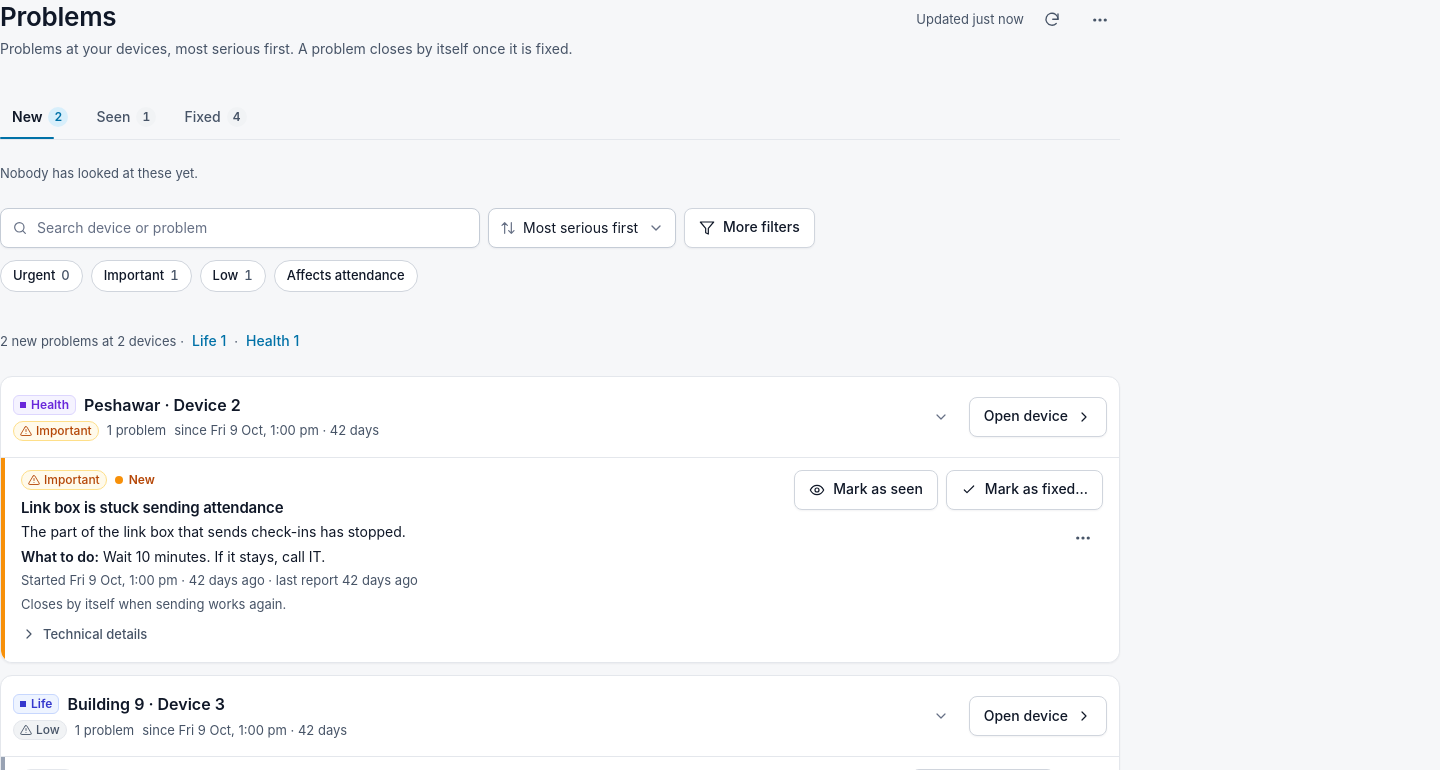
Test: Problems page › opens Clean up old problems from the ⋯ menu with Pick devices first
This screenshot has width=1440, height=770.
Expected: the heading "Link box is stuck sending attendance" is shown, [21,498,283,517]
Click the button named "More actions": (1100, 20) [1080,0,1120,40]
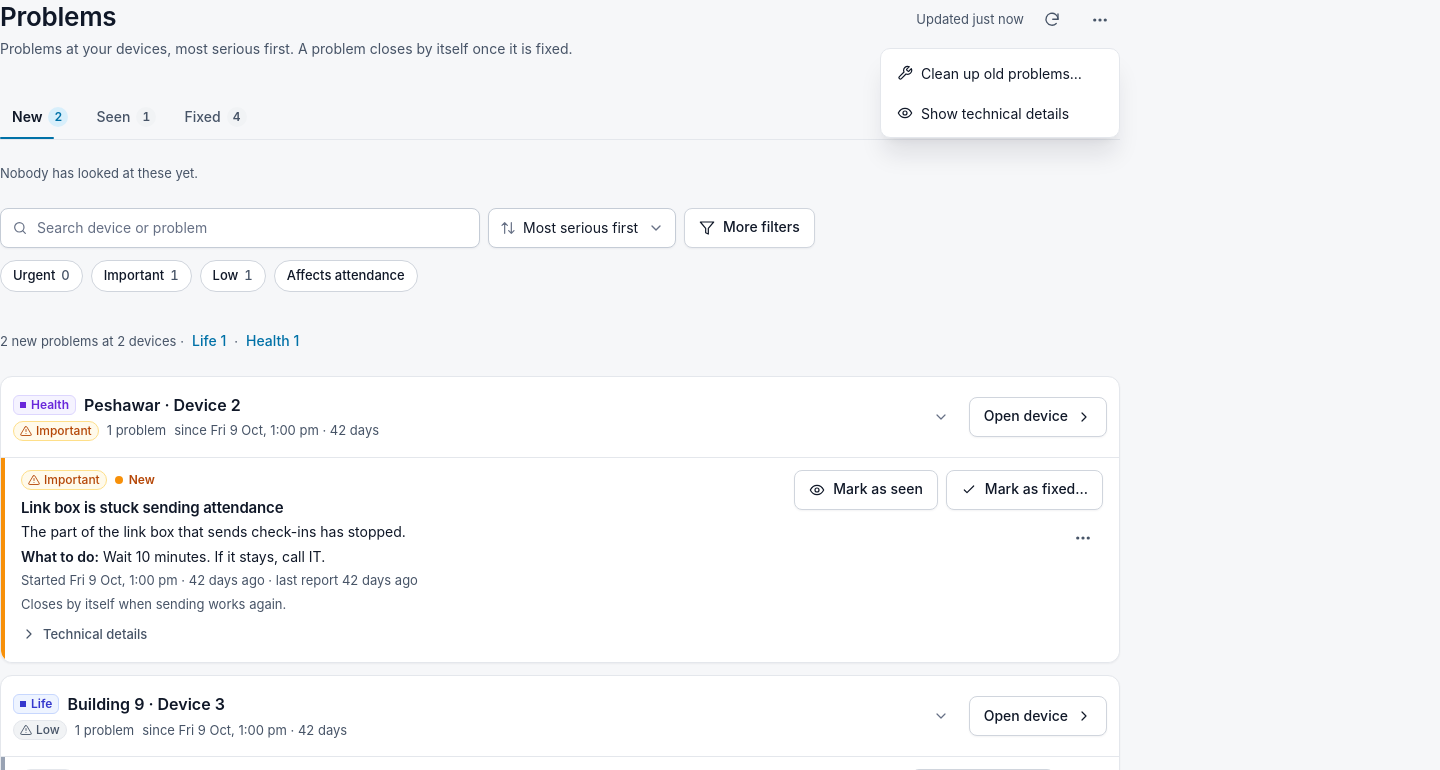
Click the menu item "Clean up old problems…": (1000, 73) [885,53,1115,93]
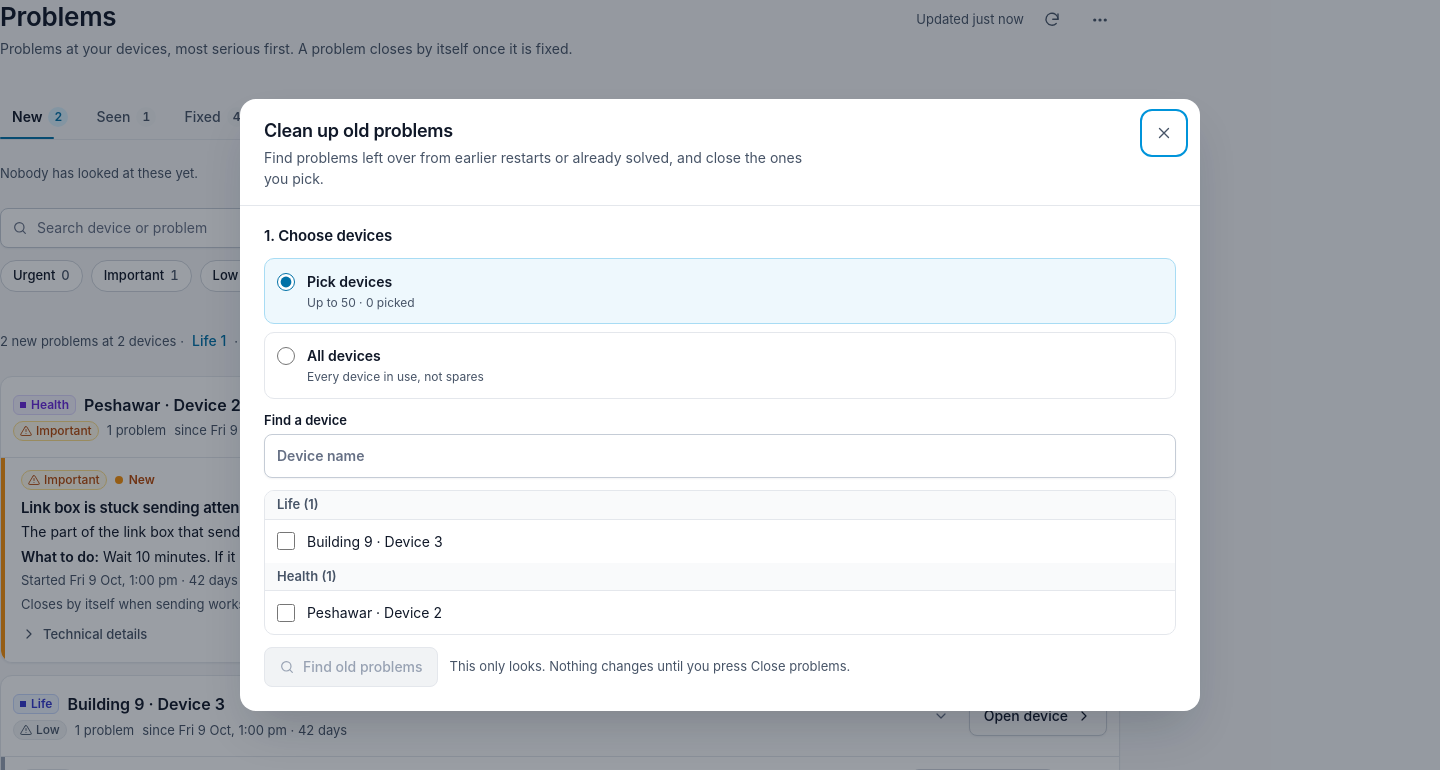
Expected: the radio button labelled "Pick devices Up to 50 · 0 picked" is checked, [277,273,295,291]
